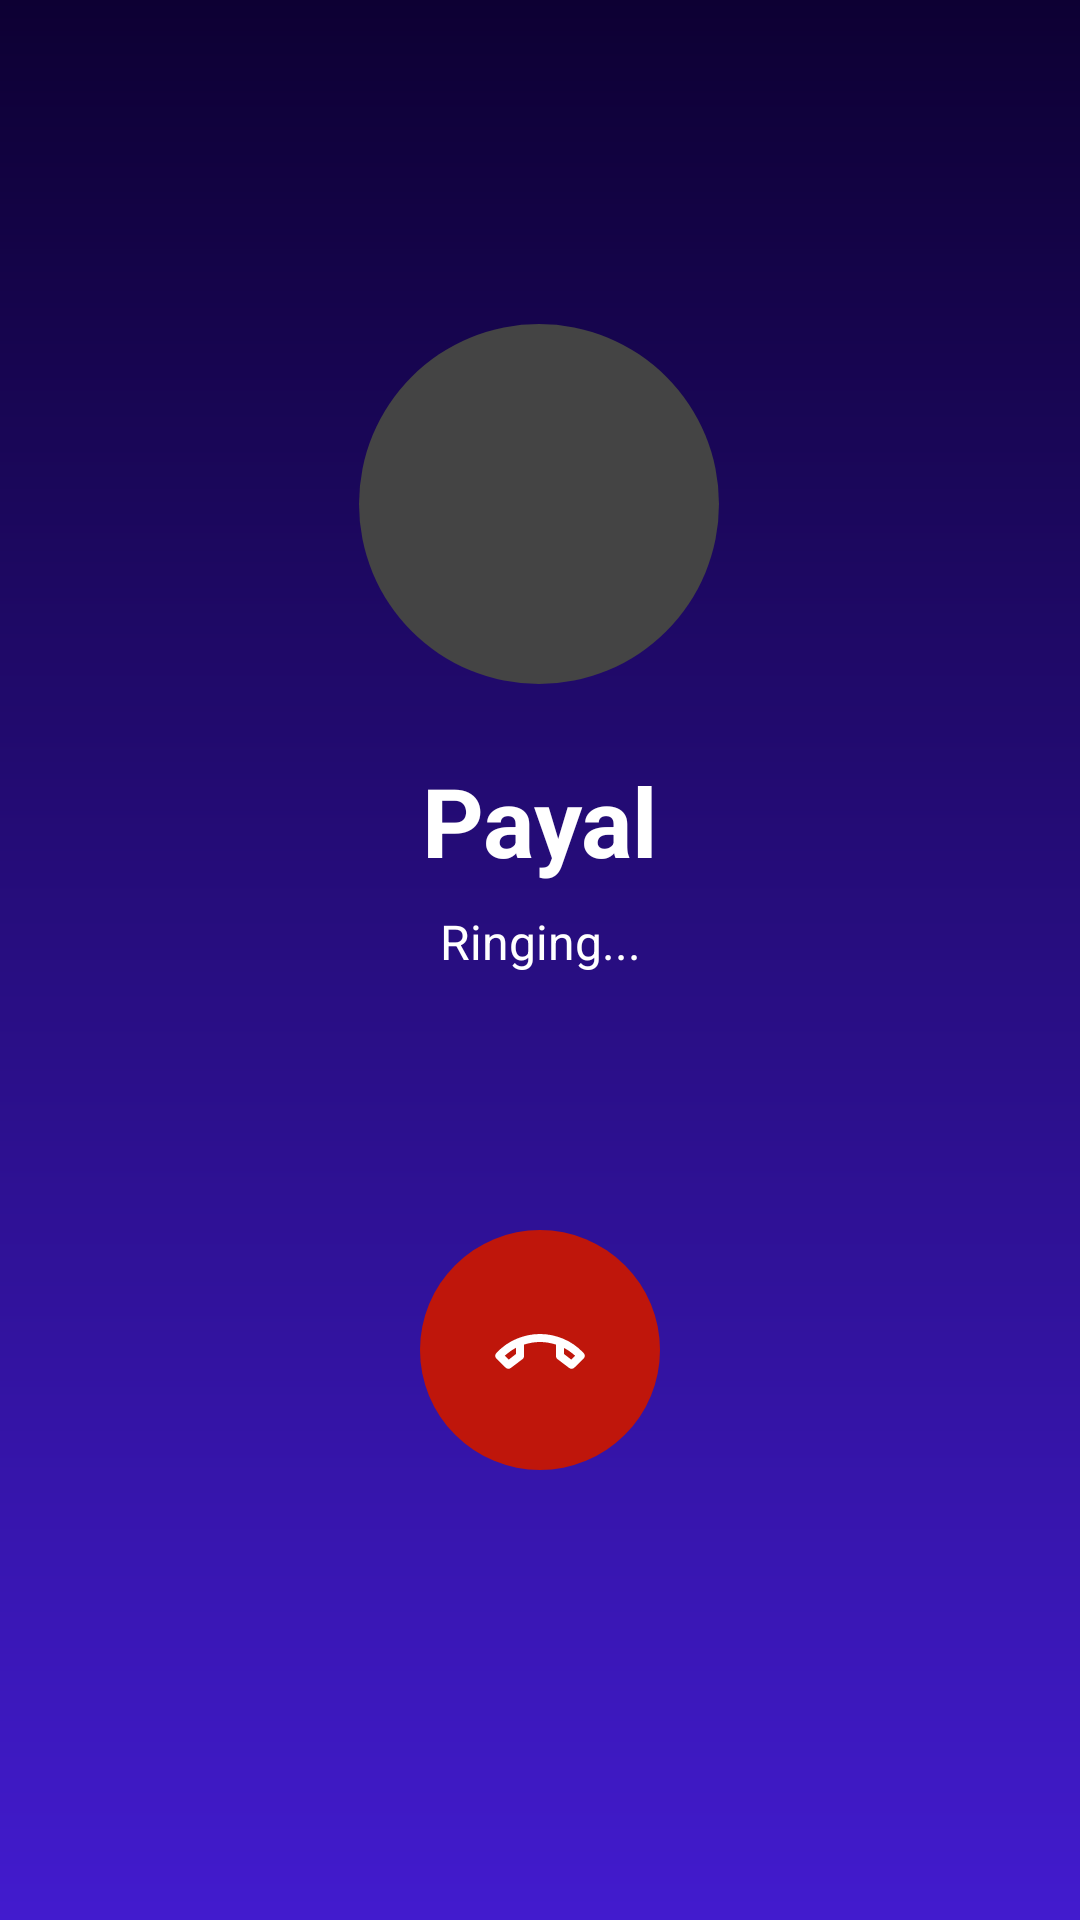

Icons on this 1080 × 1920 Android screen, each with the point to tap as point (x, y):
Reject: point (540, 1350)
